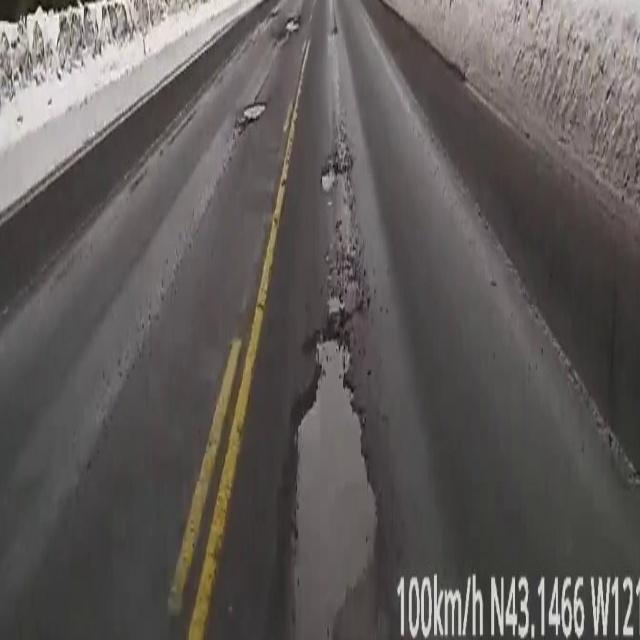pothole: (293, 460, 377, 580), (322, 136, 352, 241), (238, 96, 266, 120), (286, 13, 298, 32)
